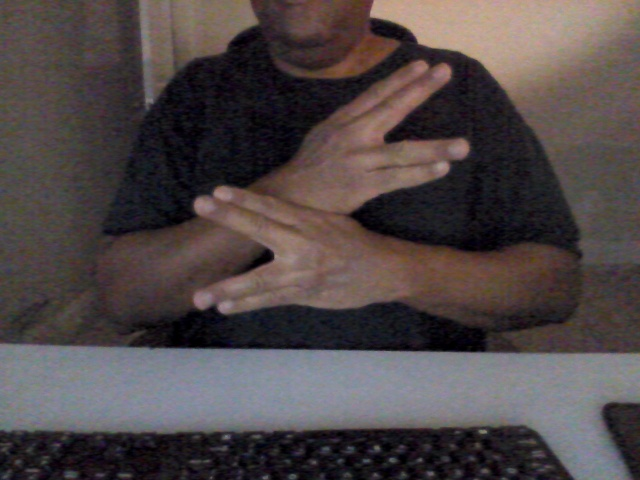world: (182, 58, 478, 318)
